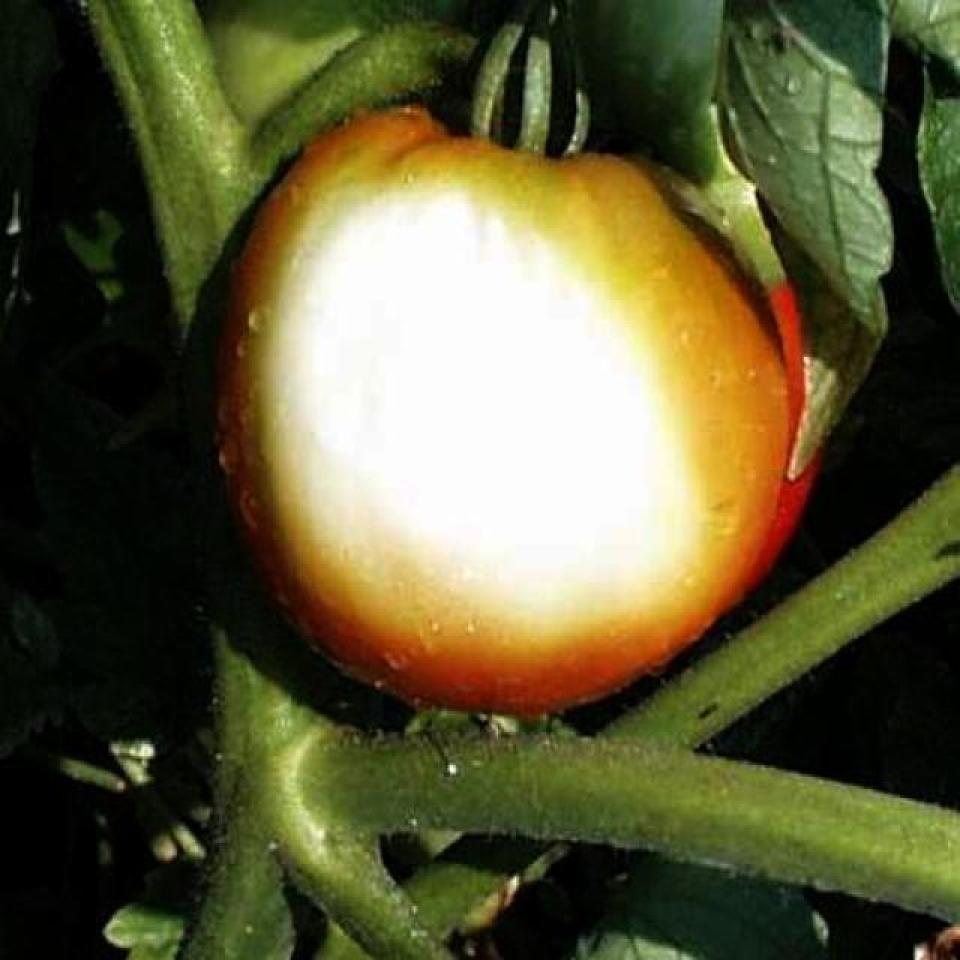Sunscald: (249, 164, 714, 643)
